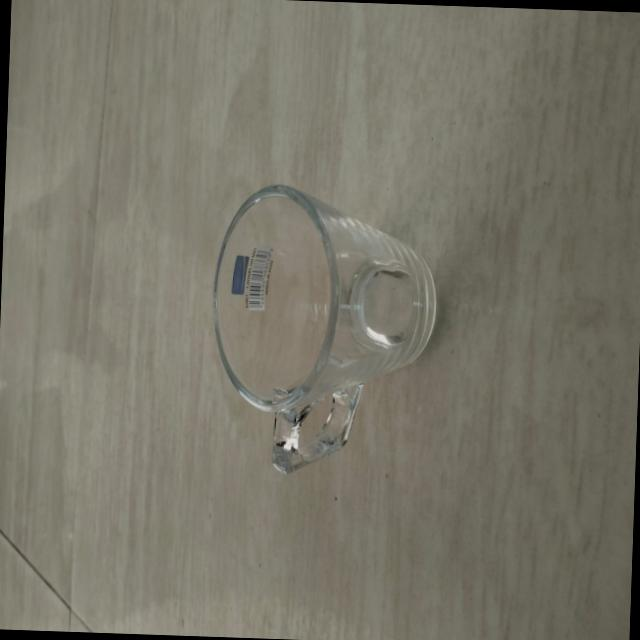glass-VX4N: (205, 178, 443, 480)
